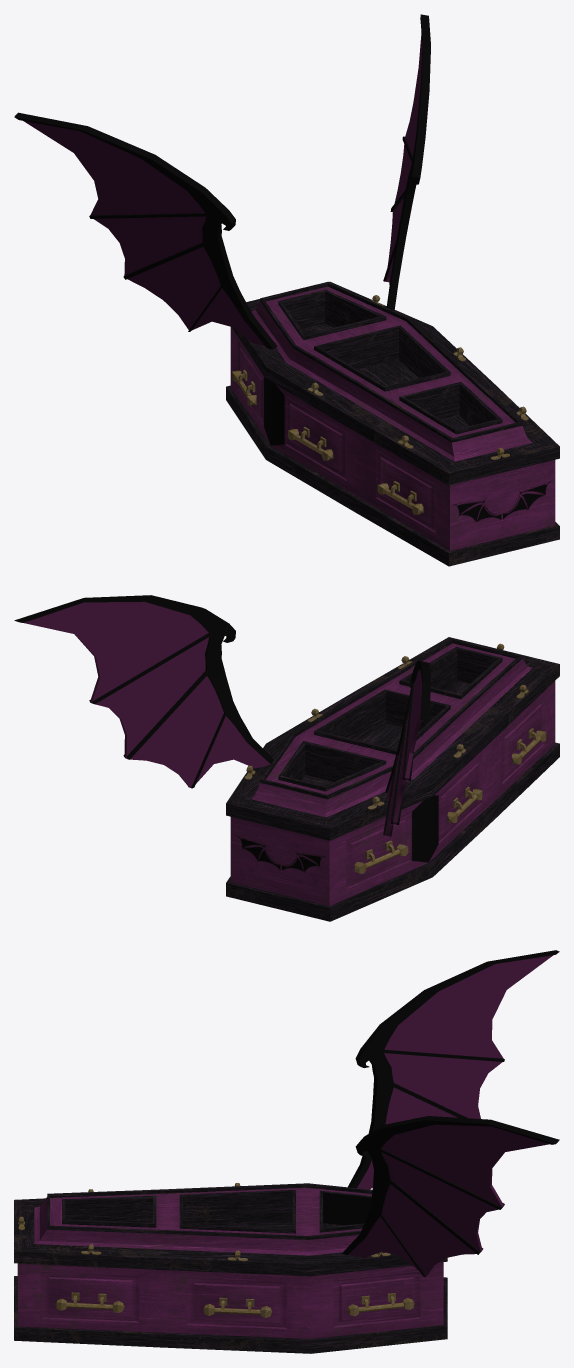
Rendered from SEPERATE_dracula.fbx.
3 renders of one model, top to bottom at view 1: azimuth 30°, elevation 25°; view 2: azimuth 150°, elevation 25°; view 3: azimuth 270°, elevation 25°, orthographic. The views are drawn at different scales.
Visible parts, largest first — view 1: DraculaCart, Batwing2, Batwing1; view 2: DraculaCart, Batwing1, Batwing2; view 3: DraculaCart, Batwing1, Batwing2.
Part boxes in pixels (bbox=[...]): DraculaCart: bbox=[226, 281, 559, 566]; Batwing2: bbox=[14, 112, 276, 349]; Batwing1: bbox=[383, 14, 430, 310]; DraculaCart: bbox=[226, 637, 559, 921]; Batwing1: bbox=[14, 595, 273, 788]; Batwing2: bbox=[383, 660, 430, 836]; DraculaCart: bbox=[14, 1183, 447, 1353]; Batwing1: bbox=[342, 1116, 559, 1277]; Batwing2: bbox=[348, 950, 559, 1189].
Size of the model in its own units: 279 by 183 by 332.
